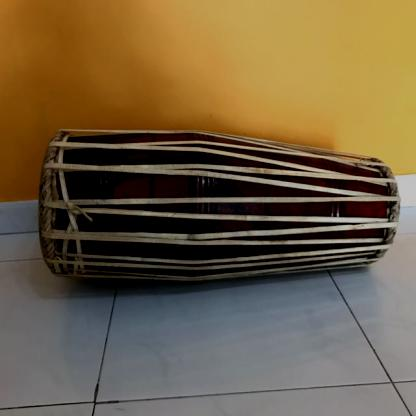Mridangam: (18, 122, 406, 297)
